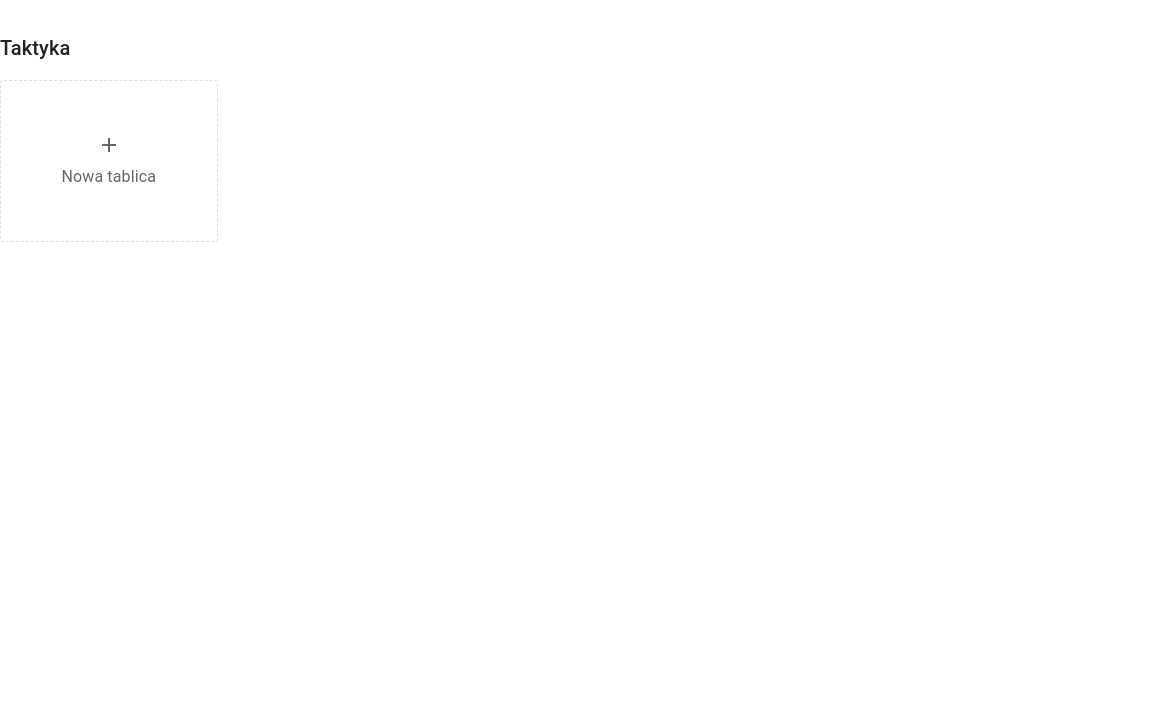
Test: creating a board › forgets the typed name when cancelled
Expected: the text "Nowa tablica" is shown, [61,165,156,189]
Step 1. Click the button "Nowa tablica" → (109, 161), box [1,81,217,241]
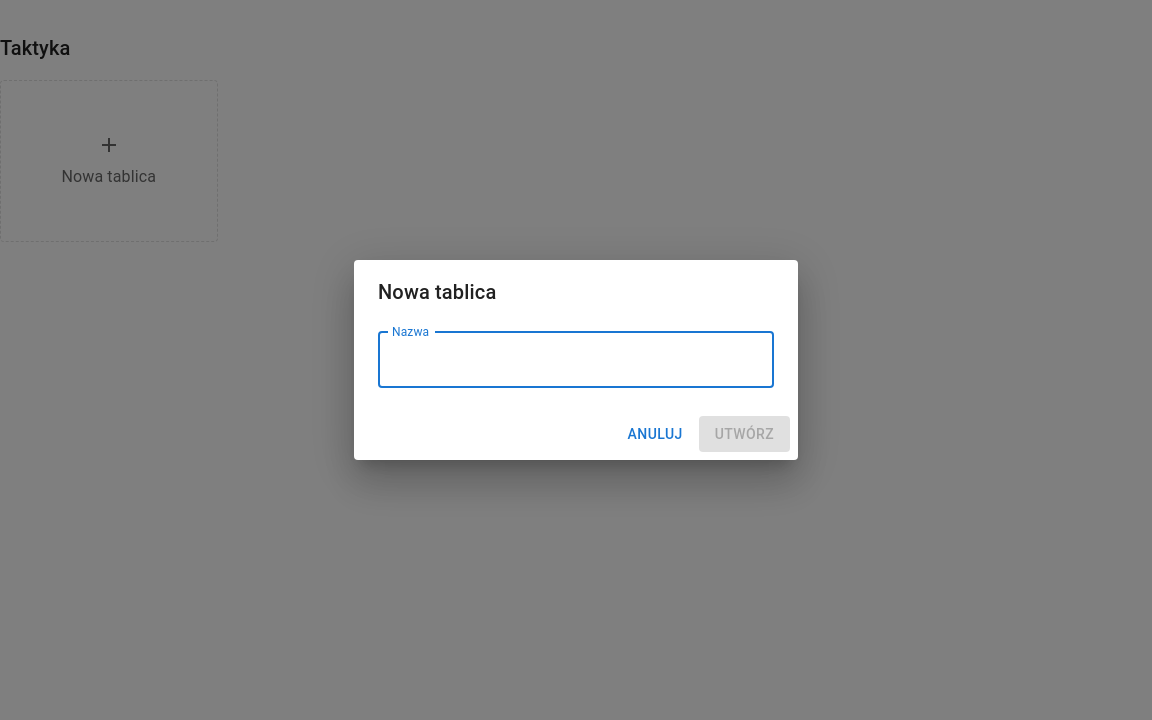
Step 2. Type "Draft" into the field labelled "Nazwa" → (576, 360), box [378,332,774,388]
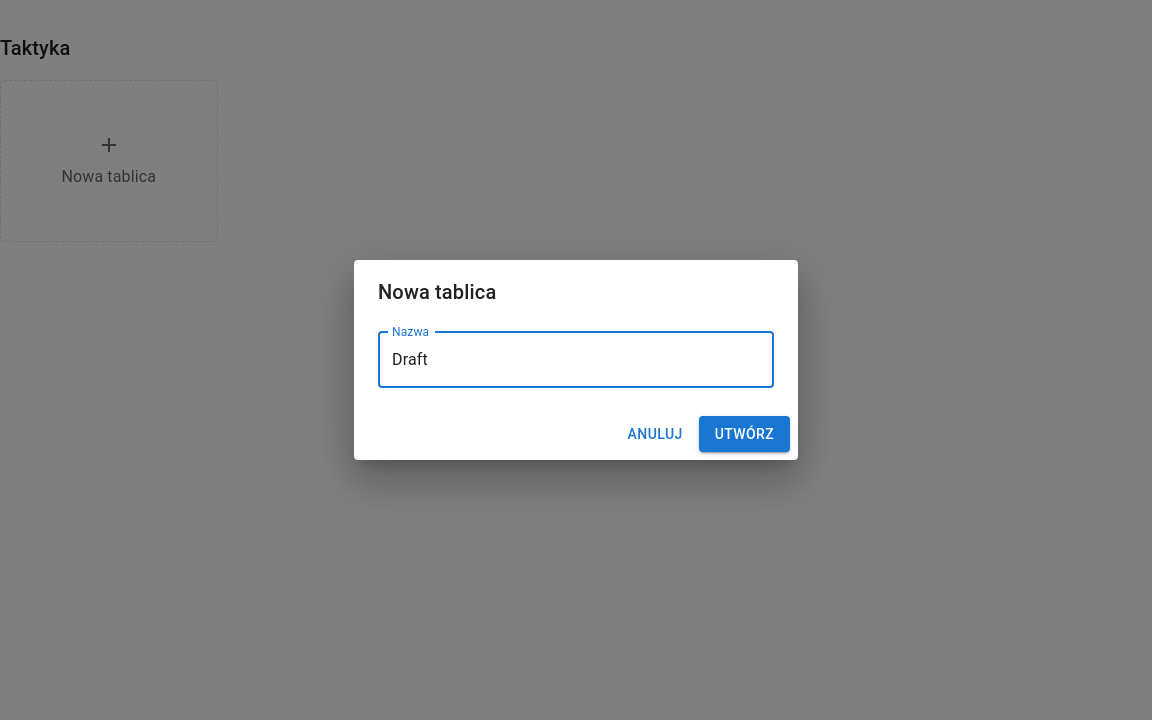
Step 3. Click the button "Anuluj" → (655, 434), box [620,416,691,452]
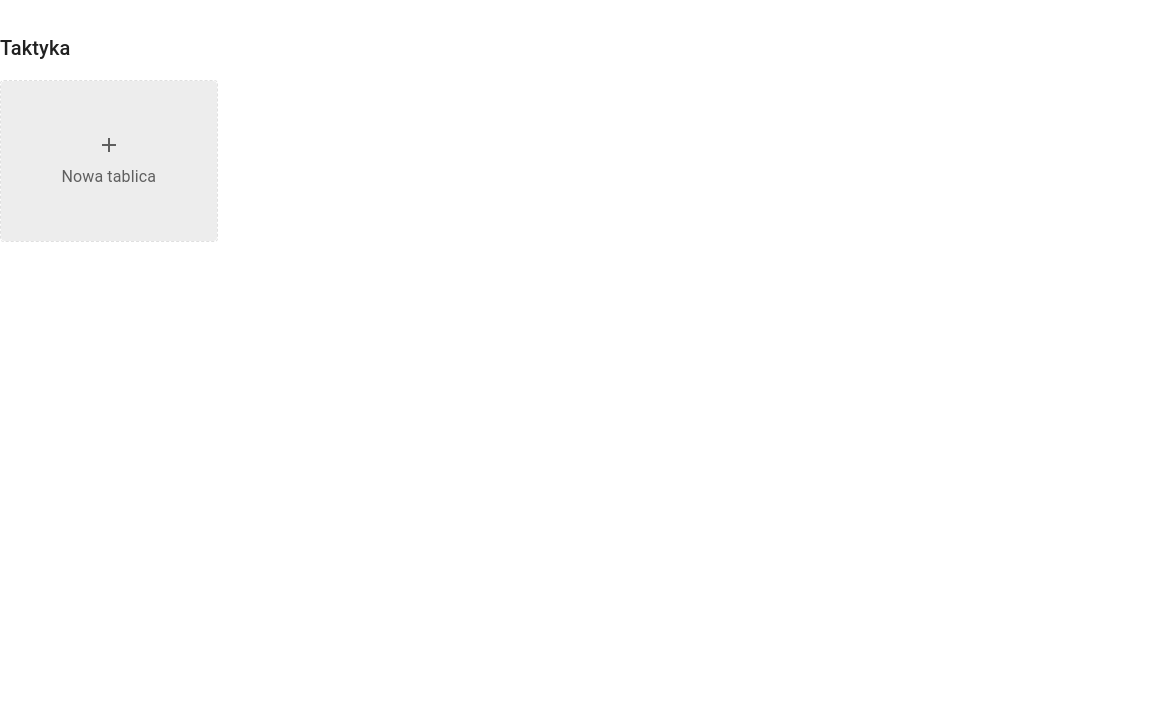
Now the dialog is gone
Step 4. Click the button "Nowa tablica" → (109, 161), box [1,81,217,241]
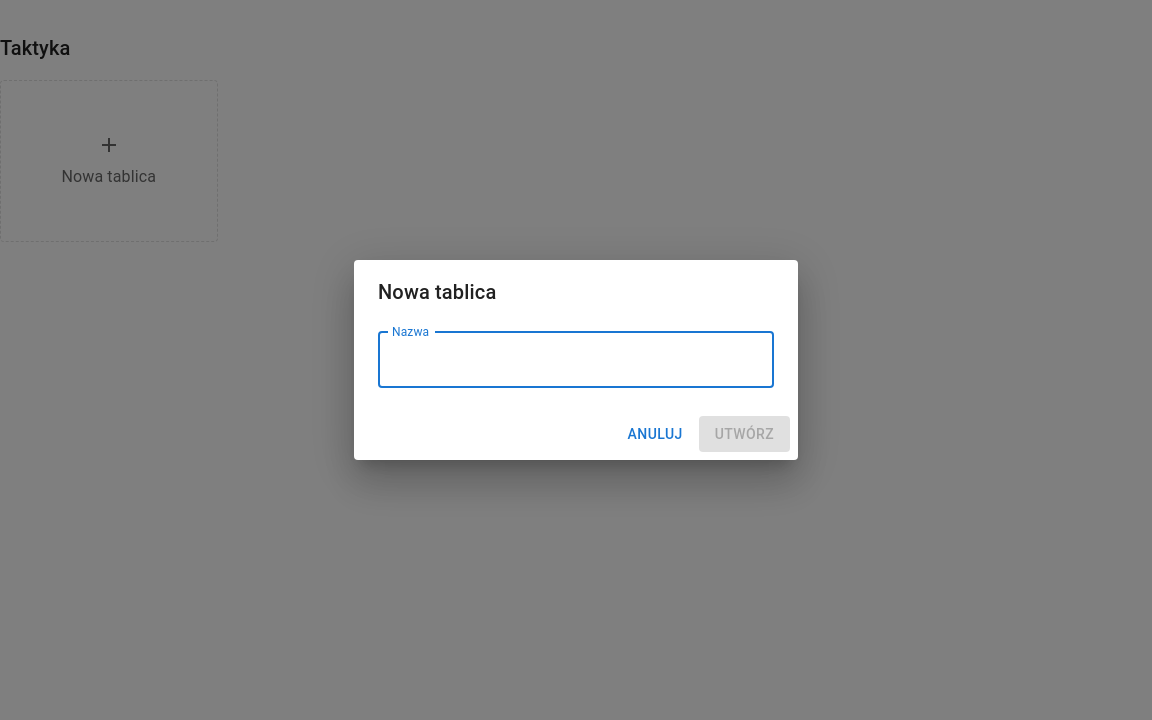
Now the field labelled "Nazwa" is empty, box [378,332,774,388]
